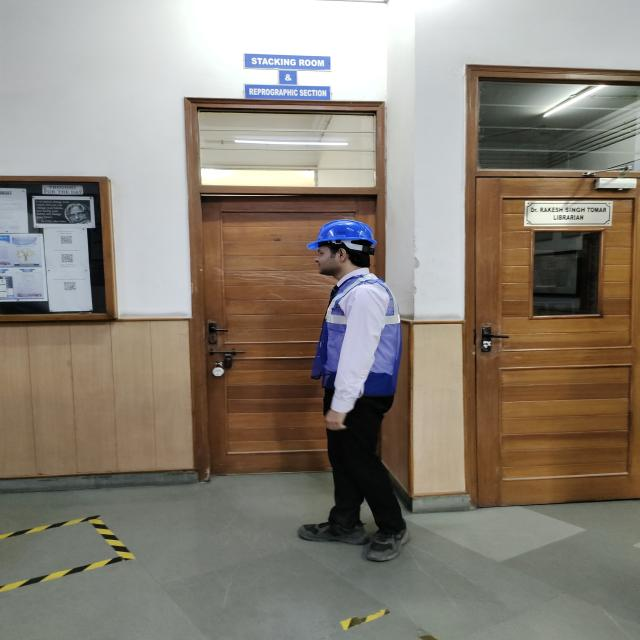safe: (307, 220, 403, 560)
